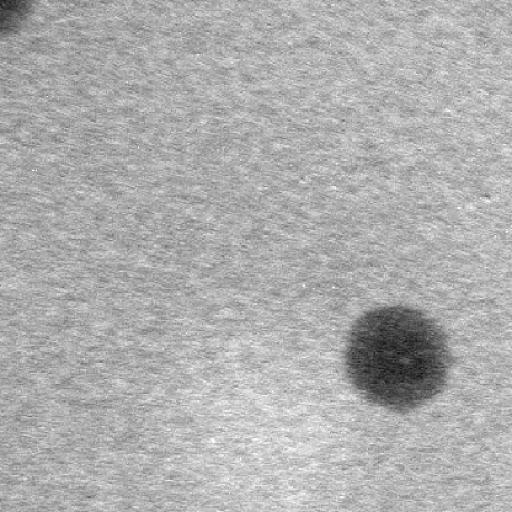Nanoparticles: (343, 301, 453, 418), (0, 0, 29, 38)
